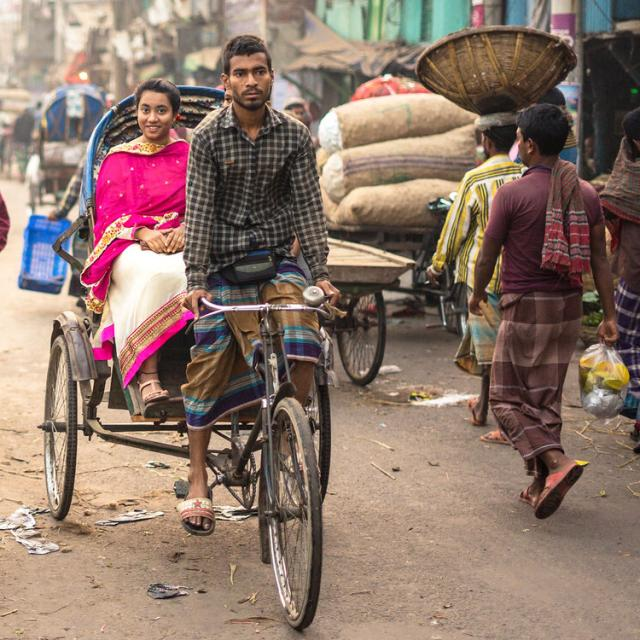bicycle: (40, 35, 340, 629)
